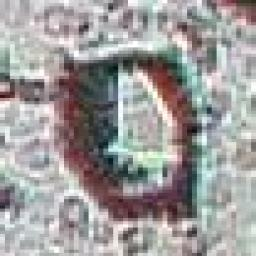crystals: (60, 49, 203, 226)
